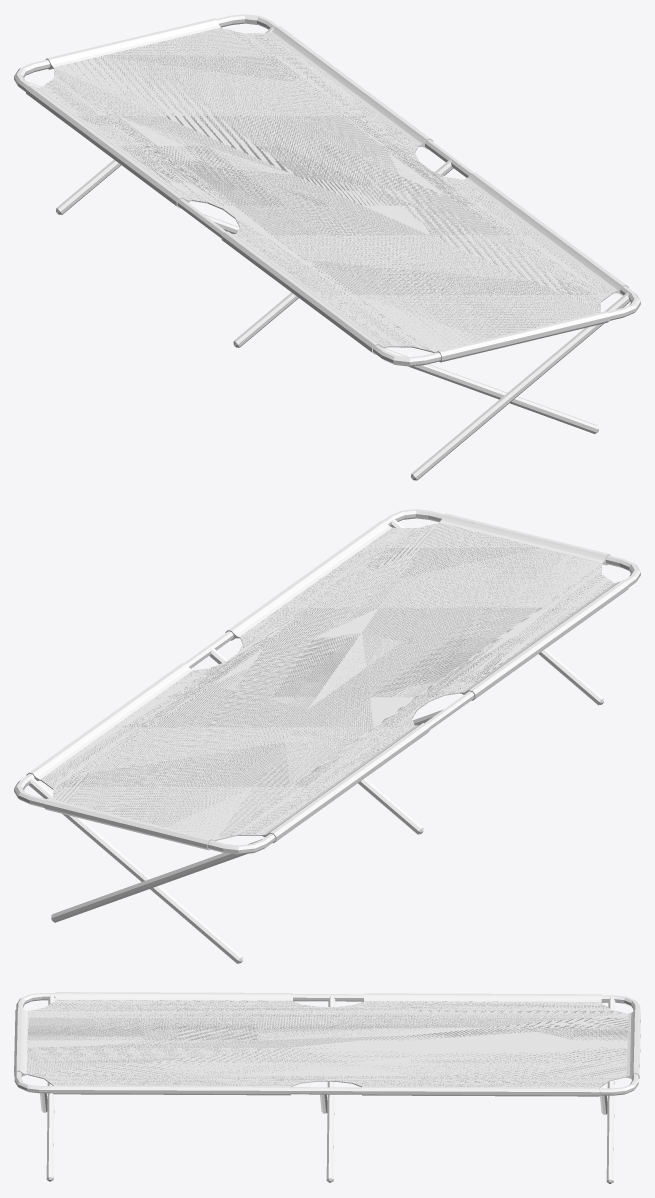
Rendered from medic stretcher.fbx.
3 views of the same model, one above another, from view 1: azimuth 30°, elevation 25°; view 2: azimuth 150°, elevation 25°; view 3: azimuth 270°, elevation 25° (orthographic). The views are drawn at different scales.
Visible parts, largest first — view 1: Mesh1; view 2: Mesh1; view 3: Mesh1.
Part boxes in pixels (left/top/right/bottom): Mesh1: left=14, top=14, right=640, bottom=480; Mesh1: left=14, top=509, right=640, bottom=963; Mesh1: left=14, top=992, right=640, bottom=1183.
Size of the model in its own units: 31.86 by 16.15 by 85.34.
